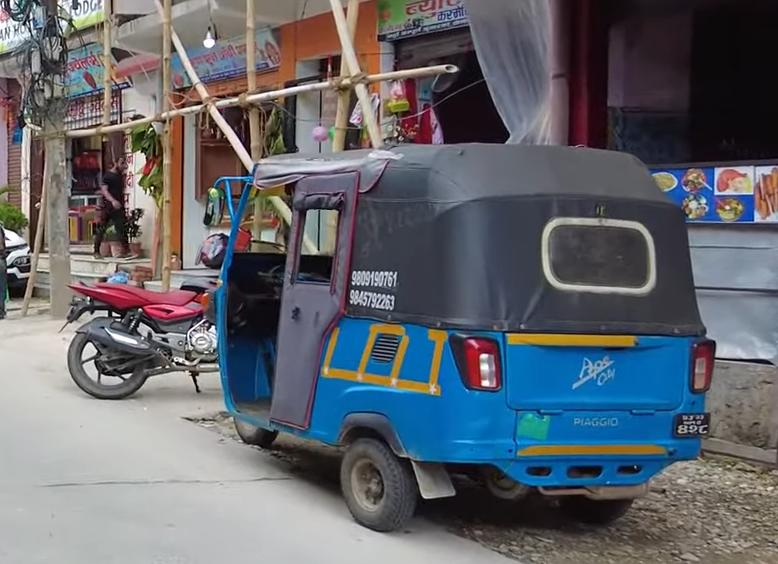auto_rickshaw: (200, 137, 720, 537)
bike: (56, 262, 227, 406)
